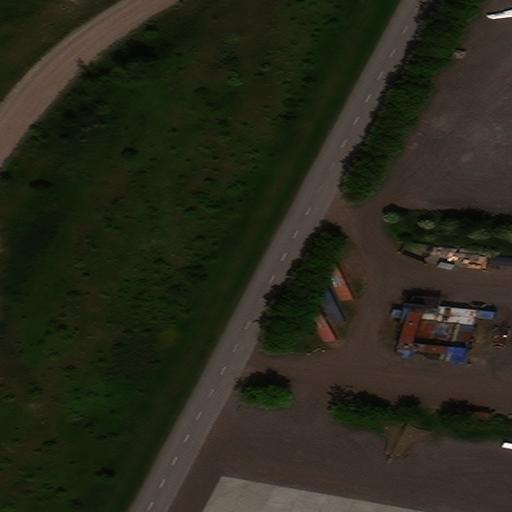Military Fighter: (377, 420, 431, 464)
